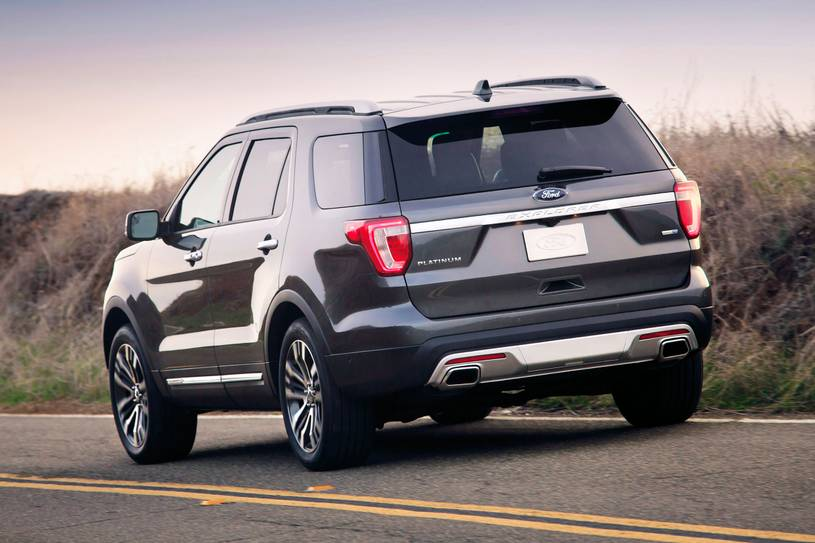Ford Explorer: (95, 64, 722, 478)
